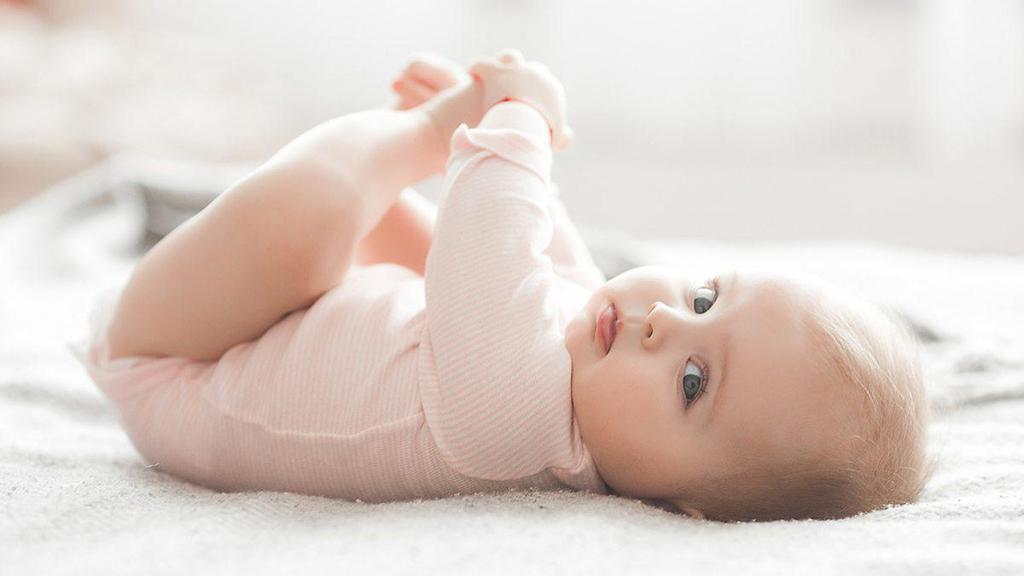child: (39, 34, 989, 530)
